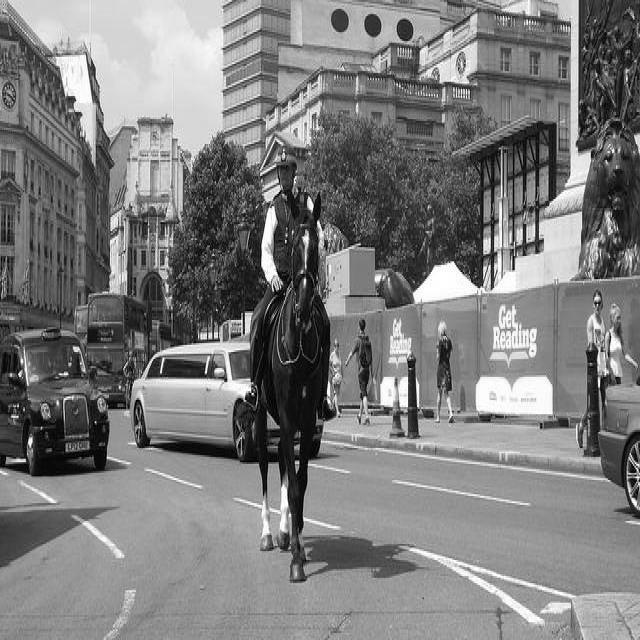vehicle: (1, 326, 109, 472), (129, 345, 259, 466), (84, 292, 148, 408), (598, 377, 640, 524), (150, 320, 171, 358), (71, 299, 87, 347)
